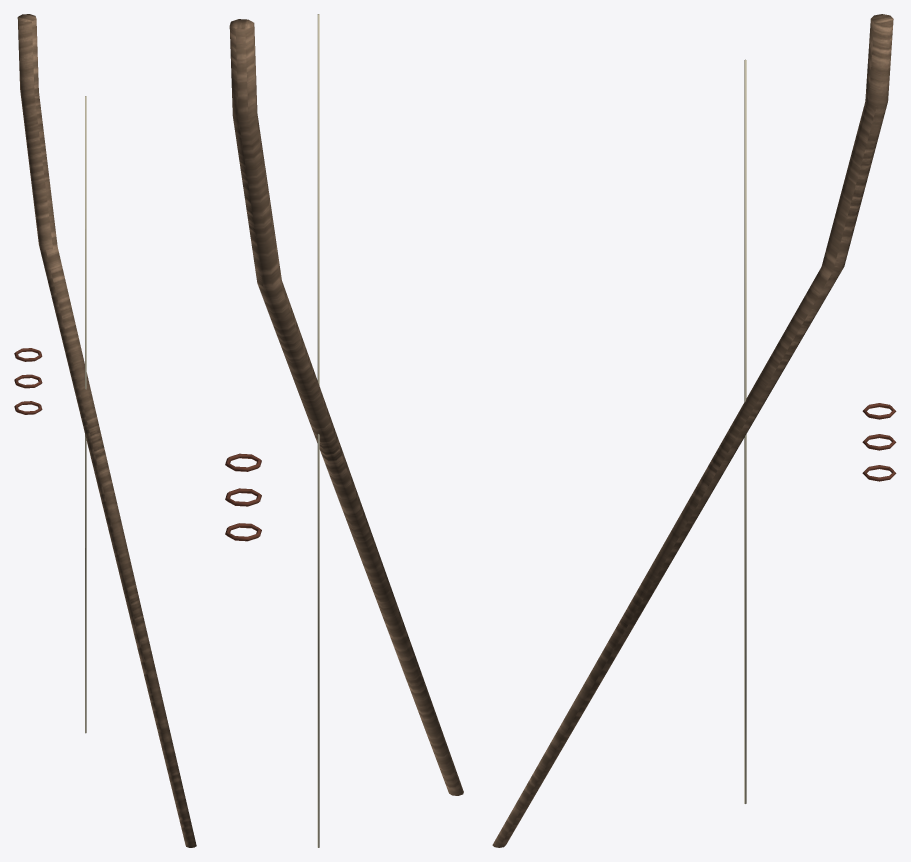
The model's file is shortbow.fbx.
3 views of the same model, side by side, from view 1: azimuth 30°, elevation 25°; view 2: azimuth 150°, elevation 25°; view 3: azimuth 270°, elevation 25° (orthographic). The views are drawn at different scales.
Parts seen in each view (by area): view 1: shortbow; view 2: shortbow; view 3: shortbow.
Boxes of the visible parts, bbox=[...] form: shortbow: bbox=[14, 14, 196, 847]; shortbow: bbox=[225, 14, 463, 847]; shortbow: bbox=[492, 14, 896, 847].
Bounding box in the file's own units: 0.03 × 0.8 × 0.3546.
3 materials, 2 textured.
